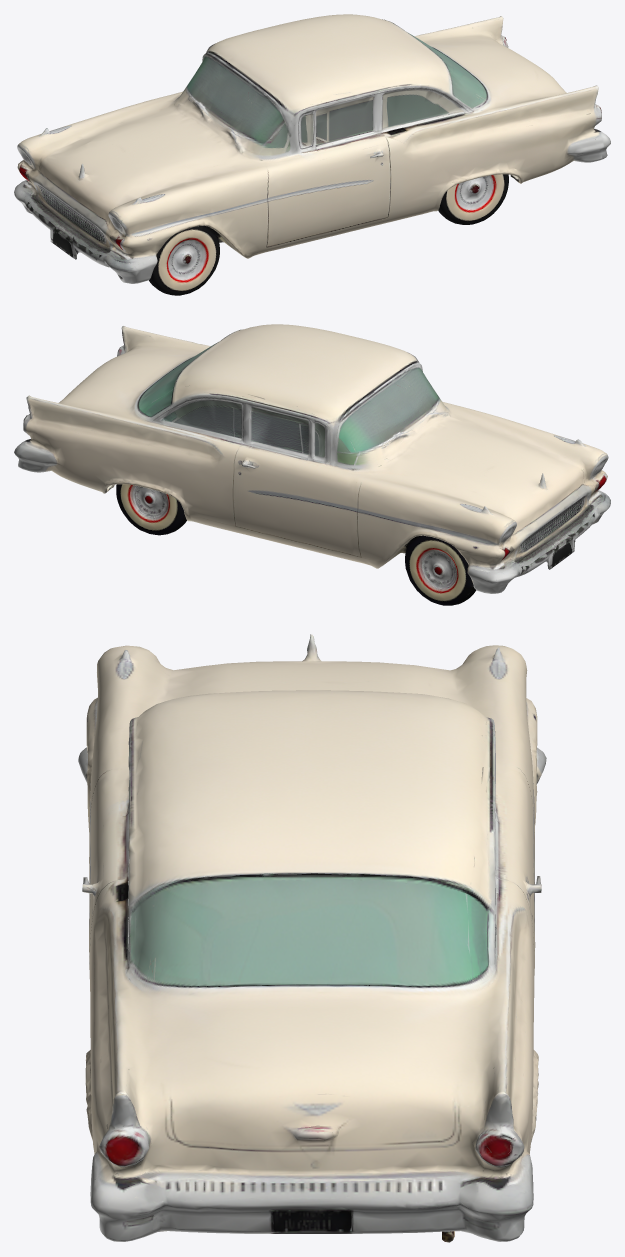
The model's file is Meshy_AI_1960s_American_classi_0501203811_texture.fbx.
The picture shows the model from 3 angles, top to bottom: view 1: azimuth 30°, elevation 25°; view 2: azimuth 150°, elevation 25°; view 3: azimuth 270°, elevation 25°; orthographic projection. The views are drawn at different scales.
Parts seen in each view (by area): view 1: Mesh_0; view 2: Mesh_0; view 3: Mesh_0.
Boxes of the visible parts, x1=… form: Mesh_0: x1=14, y1=14, x2=610, y2=295; Mesh_0: x1=14, y1=324, x2=610, y2=605; Mesh_0: x1=78, y1=634, x2=546, y2=1242.
Bounding box in the file's own units: 191 × 62.76 × 77.88.
Materials: 1 (1 with a texture image).
